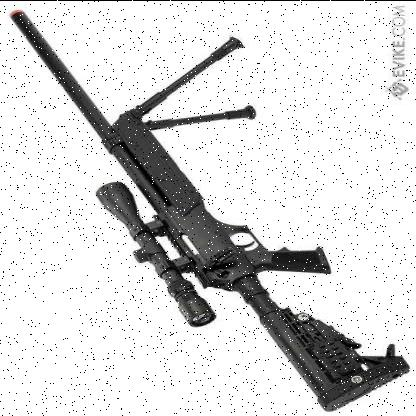rifle: (4, 7, 415, 405)
